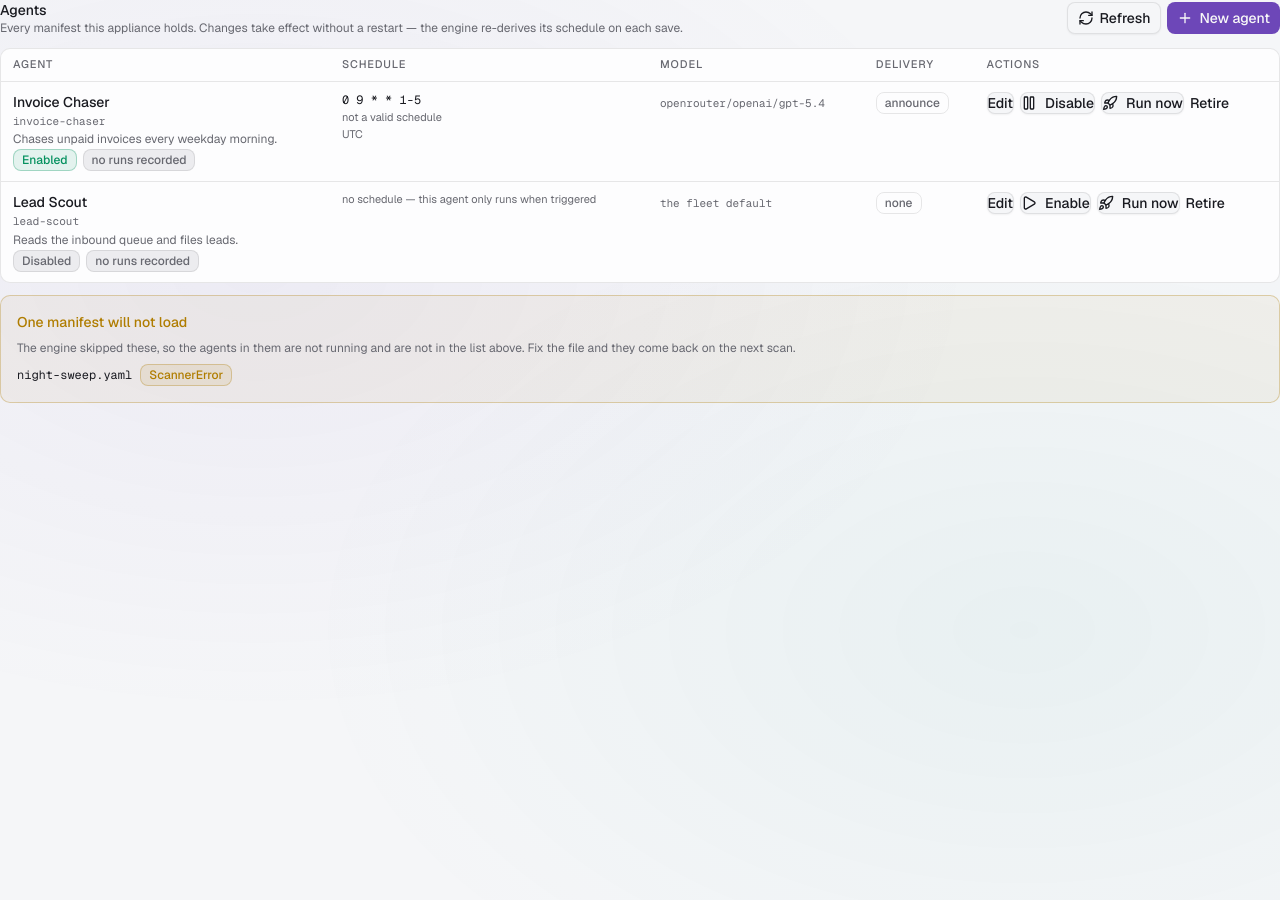
Test: AgentManifests — creating › shows the id the bridge will derive, as the name is typed
Expected: the row with test id "agent-row-invoice-chaser" is shown, [1,81,1279,182]
Click the button with test id "agent-new": (1224, 18) [1167,2,1279,34]
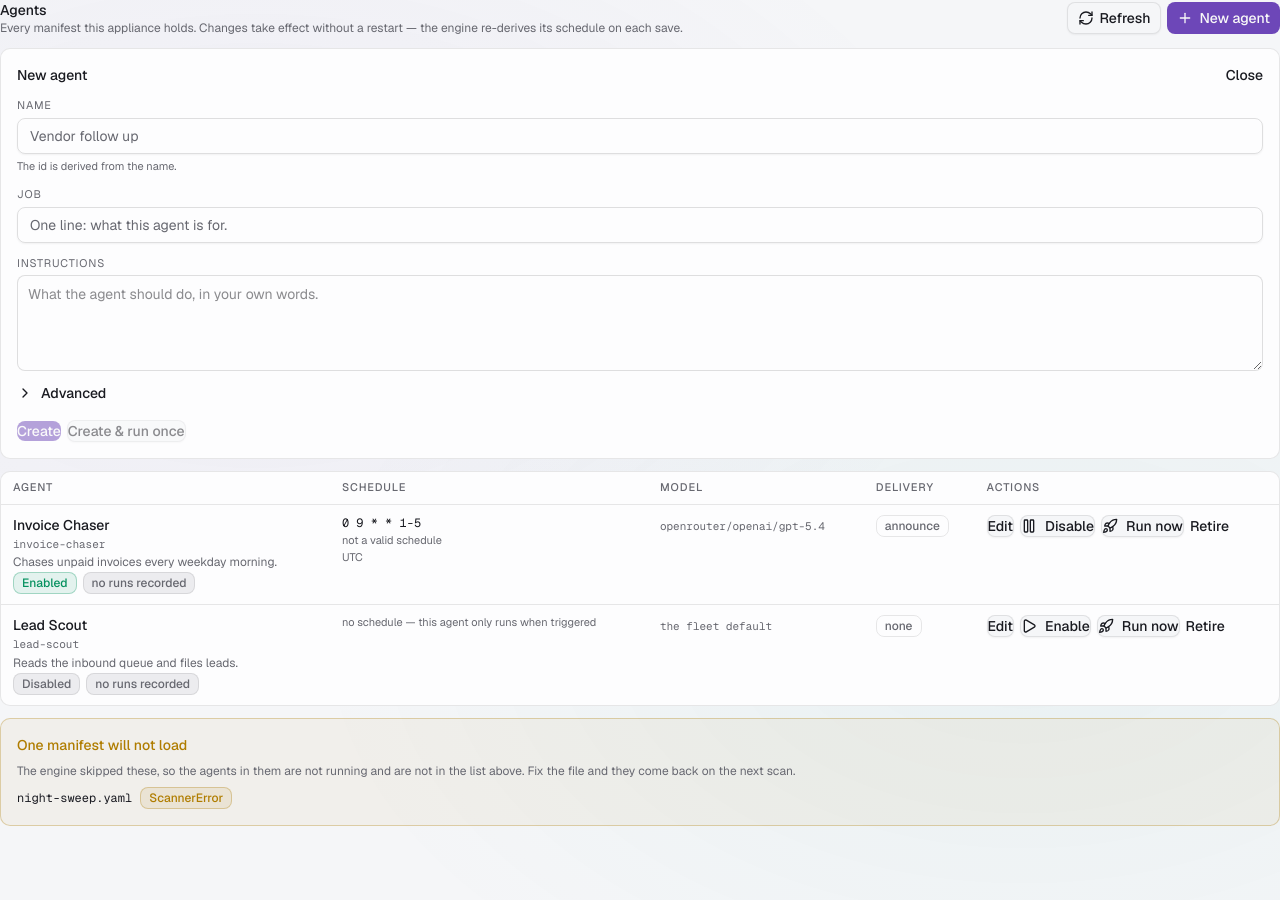
In the field with test id "agent-field-name": (640, 136) [17,118,1263,154], type "Vendor Follow Up"
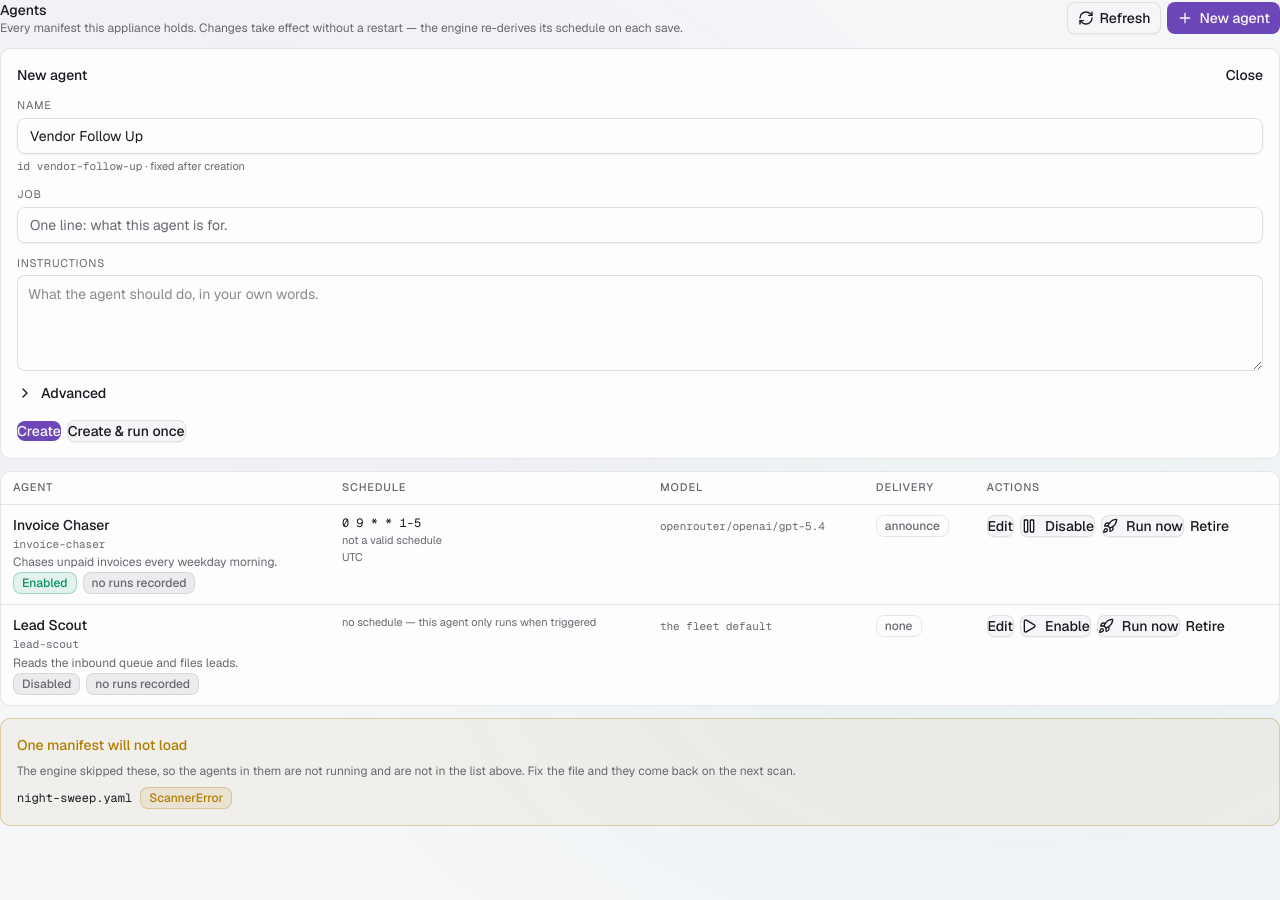
Now the element with test id "agent-derived-id" shows "vendor-follow-up", box [17,158,142,172]
Now the element with test id "agent-derived-id" shows "fixed after creation", box [142,158,245,172]
